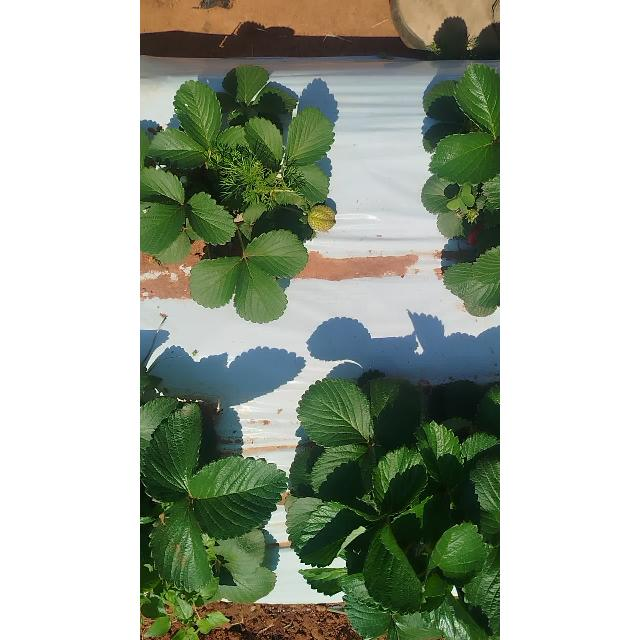no-maduro: (307, 205, 337, 232)
